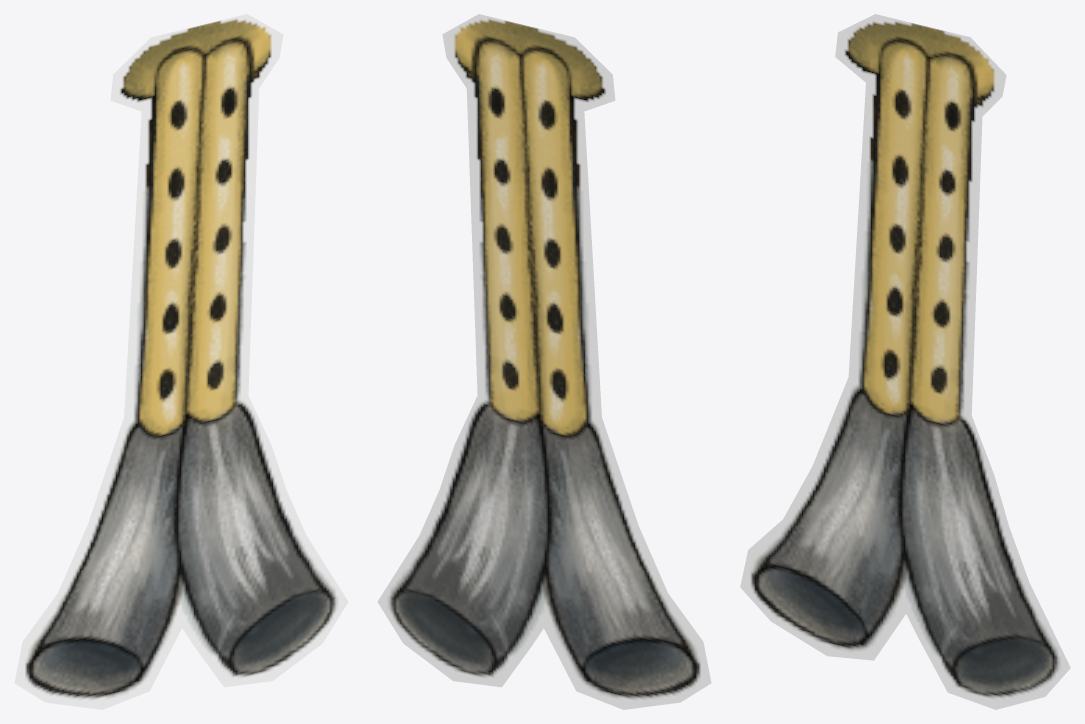
The picture shows the model from 3 angles, left to right: view 1: azimuth 30°, elevation 25°; view 2: azimuth 150°, elevation 25°; view 3: azimuth 330°, elevation 25°; orthographic projection.
Parts seen in each view (by area): view 1: Plane; view 2: Plane; view 3: Plane.
Part boxes in pixels (left/top/right/bottom): Plane: left=14, top=14, right=348, bottom=709; Plane: left=377, top=14, right=711, bottom=709; Plane: left=740, top=14, right=1070, bottom=709.
Bounding box in the file's own units: 1.2 × 2.31 × 0.
1 material, 1 textured.
